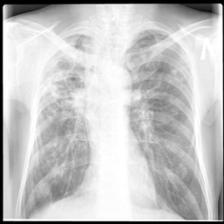tuberculosis: (15, 23, 214, 220)
